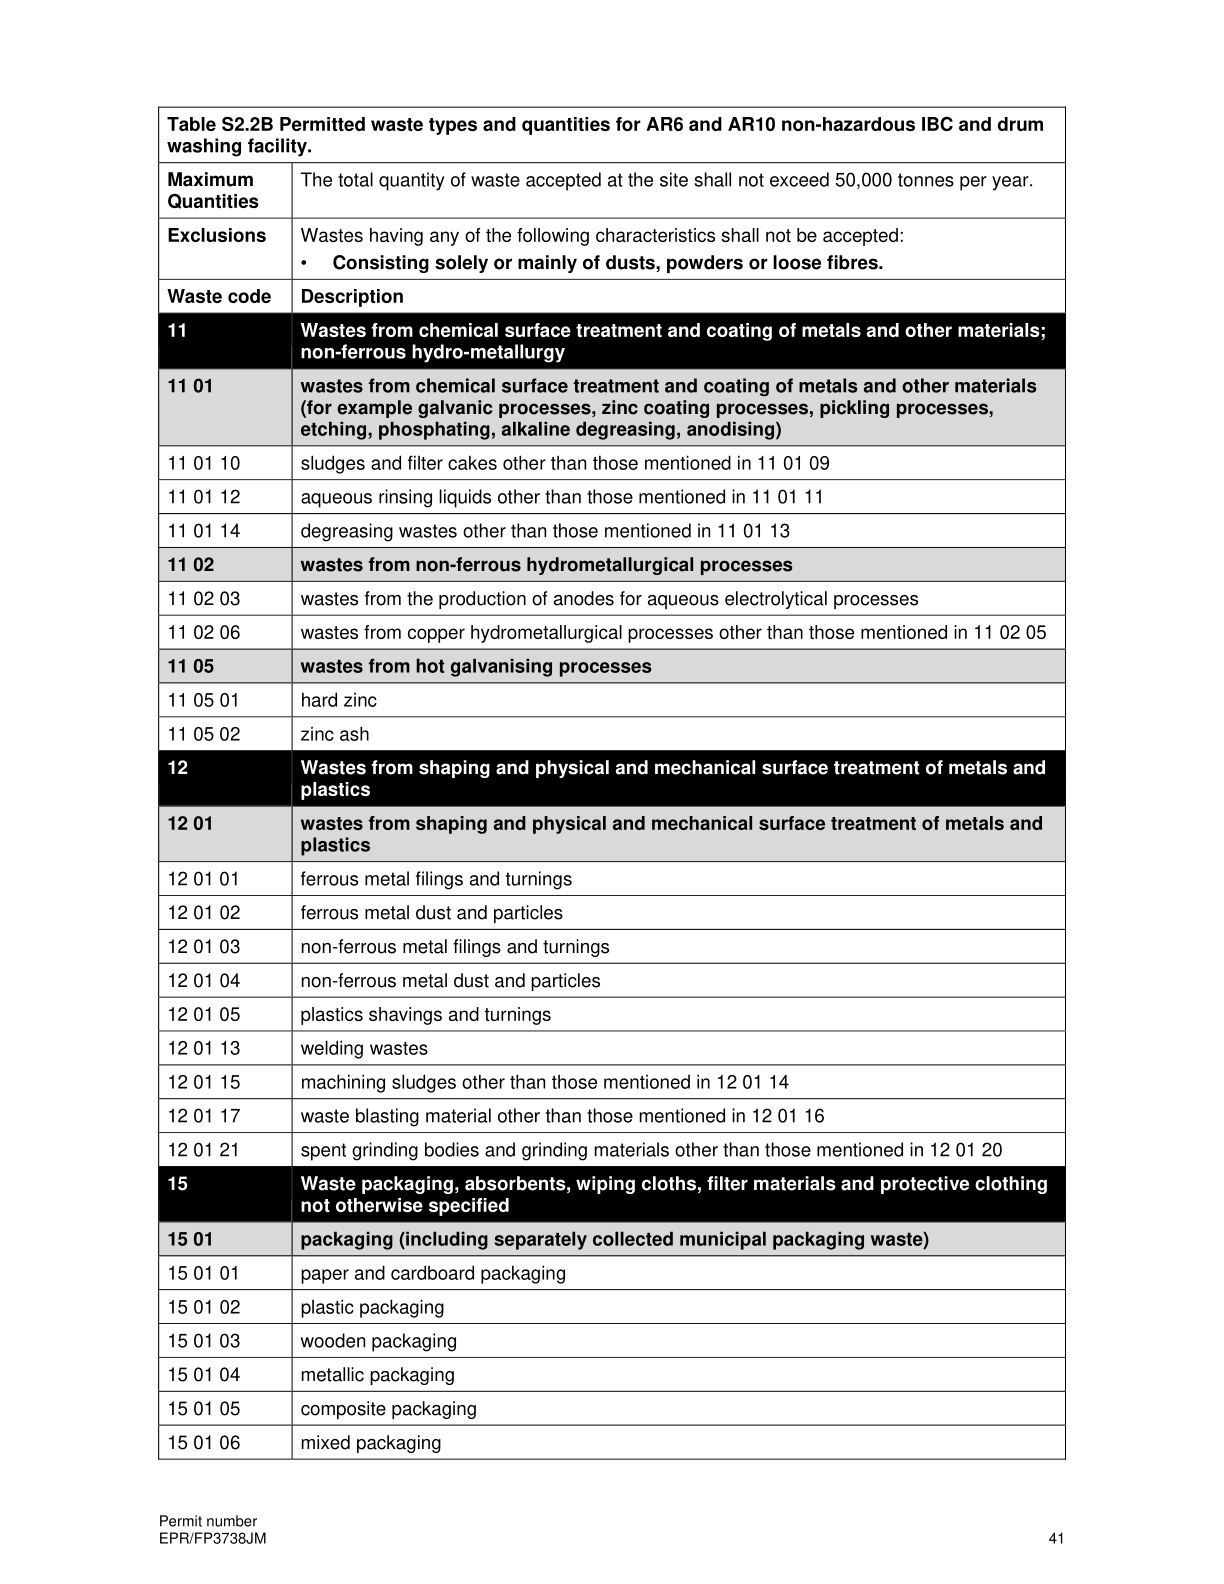merged_cells: (157, 105, 1067, 1461)
